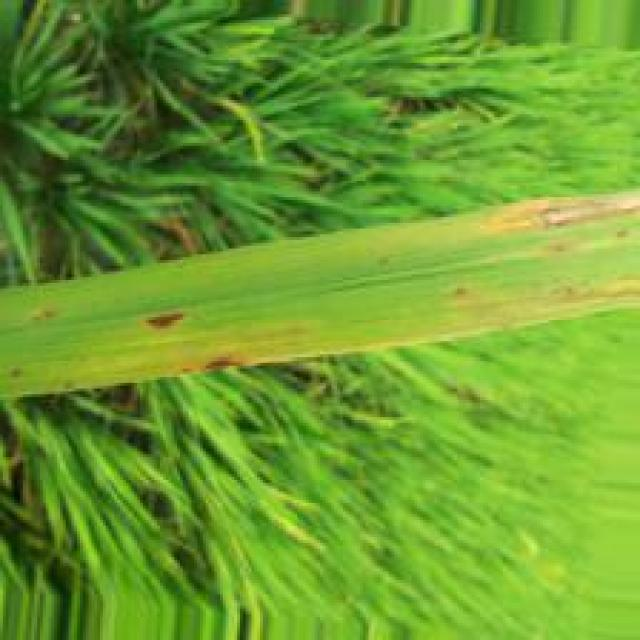Rice Tungro: (177, 349, 284, 374), (143, 310, 188, 335)
